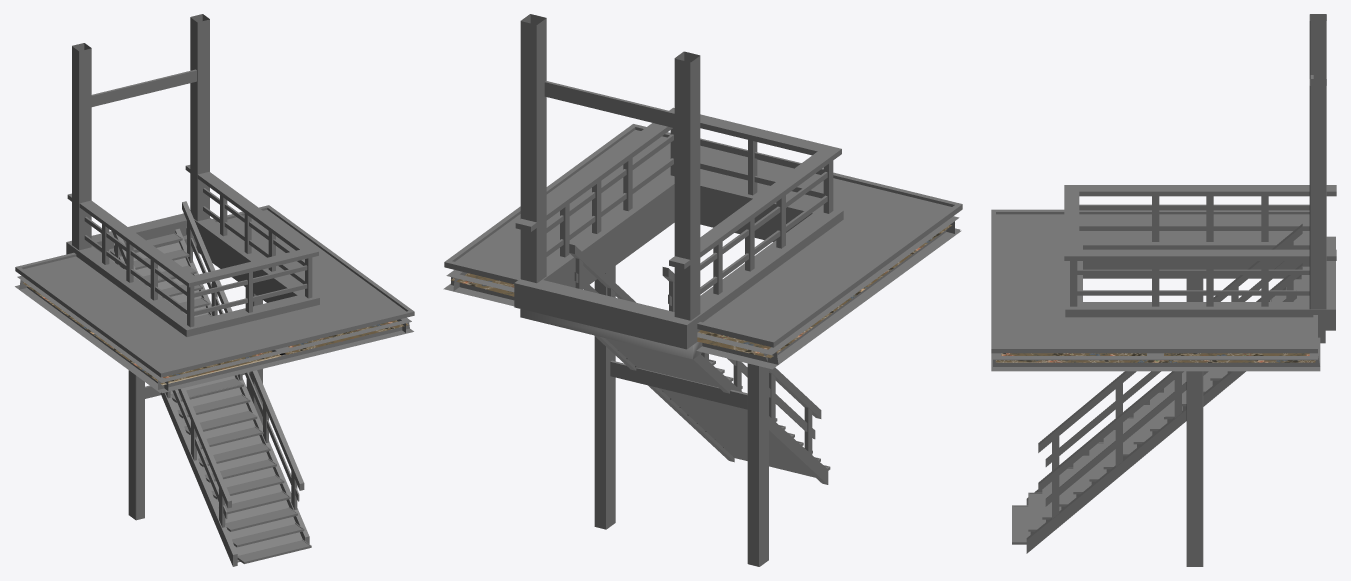
The model's file is FL1_Stairs.fbx.
3 renders of one model, left to right at view 1: azimuth 30°, elevation 25°; view 2: azimuth 150°, elevation 25°; view 3: azimuth 270°, elevation 25°, orthographic. The views are drawn at different scales.
Visible parts, largest first — view 1: FL1_Stairs; view 2: FL1_Stairs; view 3: FL1_Stairs.
Part boxes in pixels (x1,y1,x2,y2): FL1_Stairs: (15,14,414,566); FL1_Stairs: (443,14,962,566); FL1_Stairs: (991,14,1336,566).
Bounding box in the file's own units: 506 × 819 × 531.
